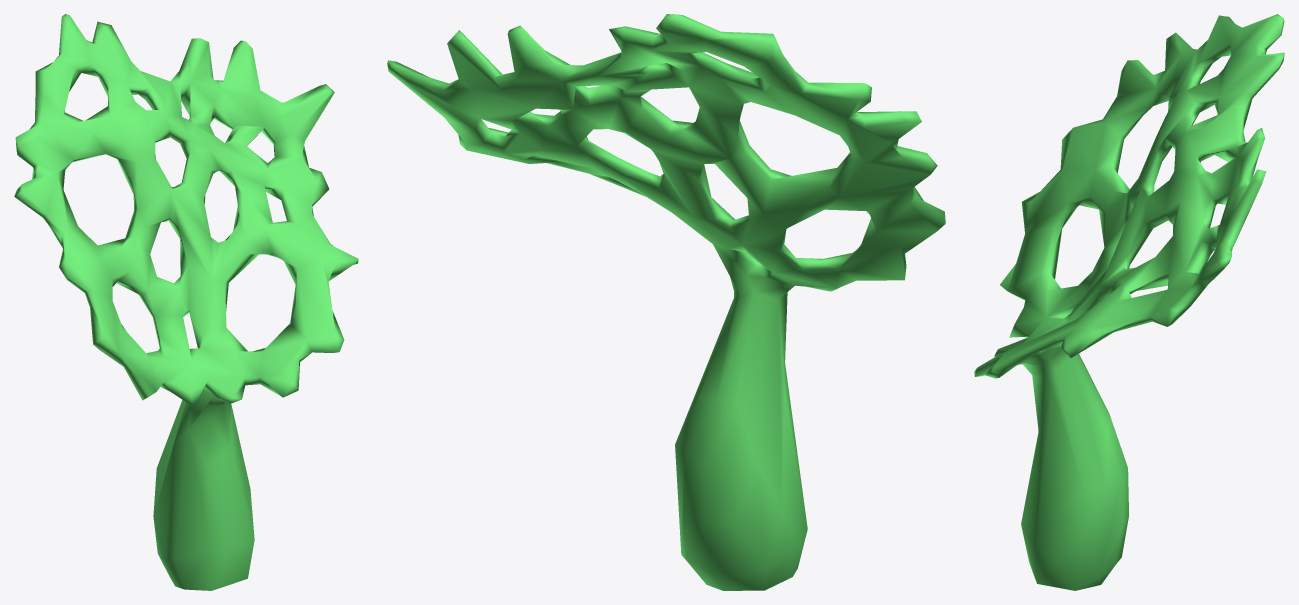
The model's file is M_Coral_Porus 2.fbx.
The picture shows the model from 3 angles, left to right: view 1: azimuth 30°, elevation 25°; view 2: azimuth 150°, elevation 25°; view 3: azimuth 270°, elevation 25°; orthographic projection. The views are drawn at different scales.
Visible parts, largest first — view 1: coral_porus; view 2: coral_porus; view 3: coral_porus.
Boxes of the visible parts, box(x1,y1,x2,y2) form: coral_porus: box(14, 14, 358, 590); coral_porus: box(387, 14, 945, 590); coral_porus: box(974, 14, 1284, 590).
Size of the model in its own units: 13.67 by 18.21 by 9.52.
